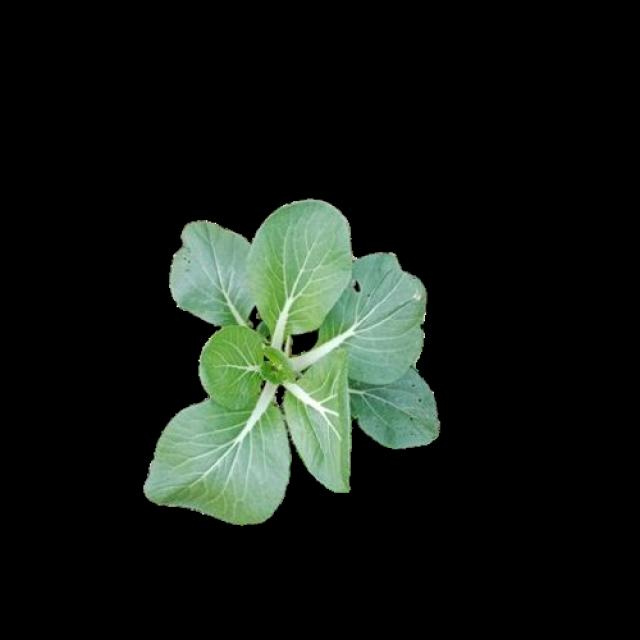not-mature: (146, 198, 440, 525)
unhealthy: (341, 254, 426, 386)
